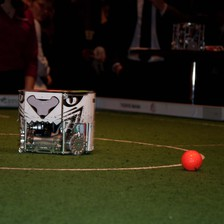ball: (177, 147, 202, 172)
robot: (15, 85, 96, 157)
